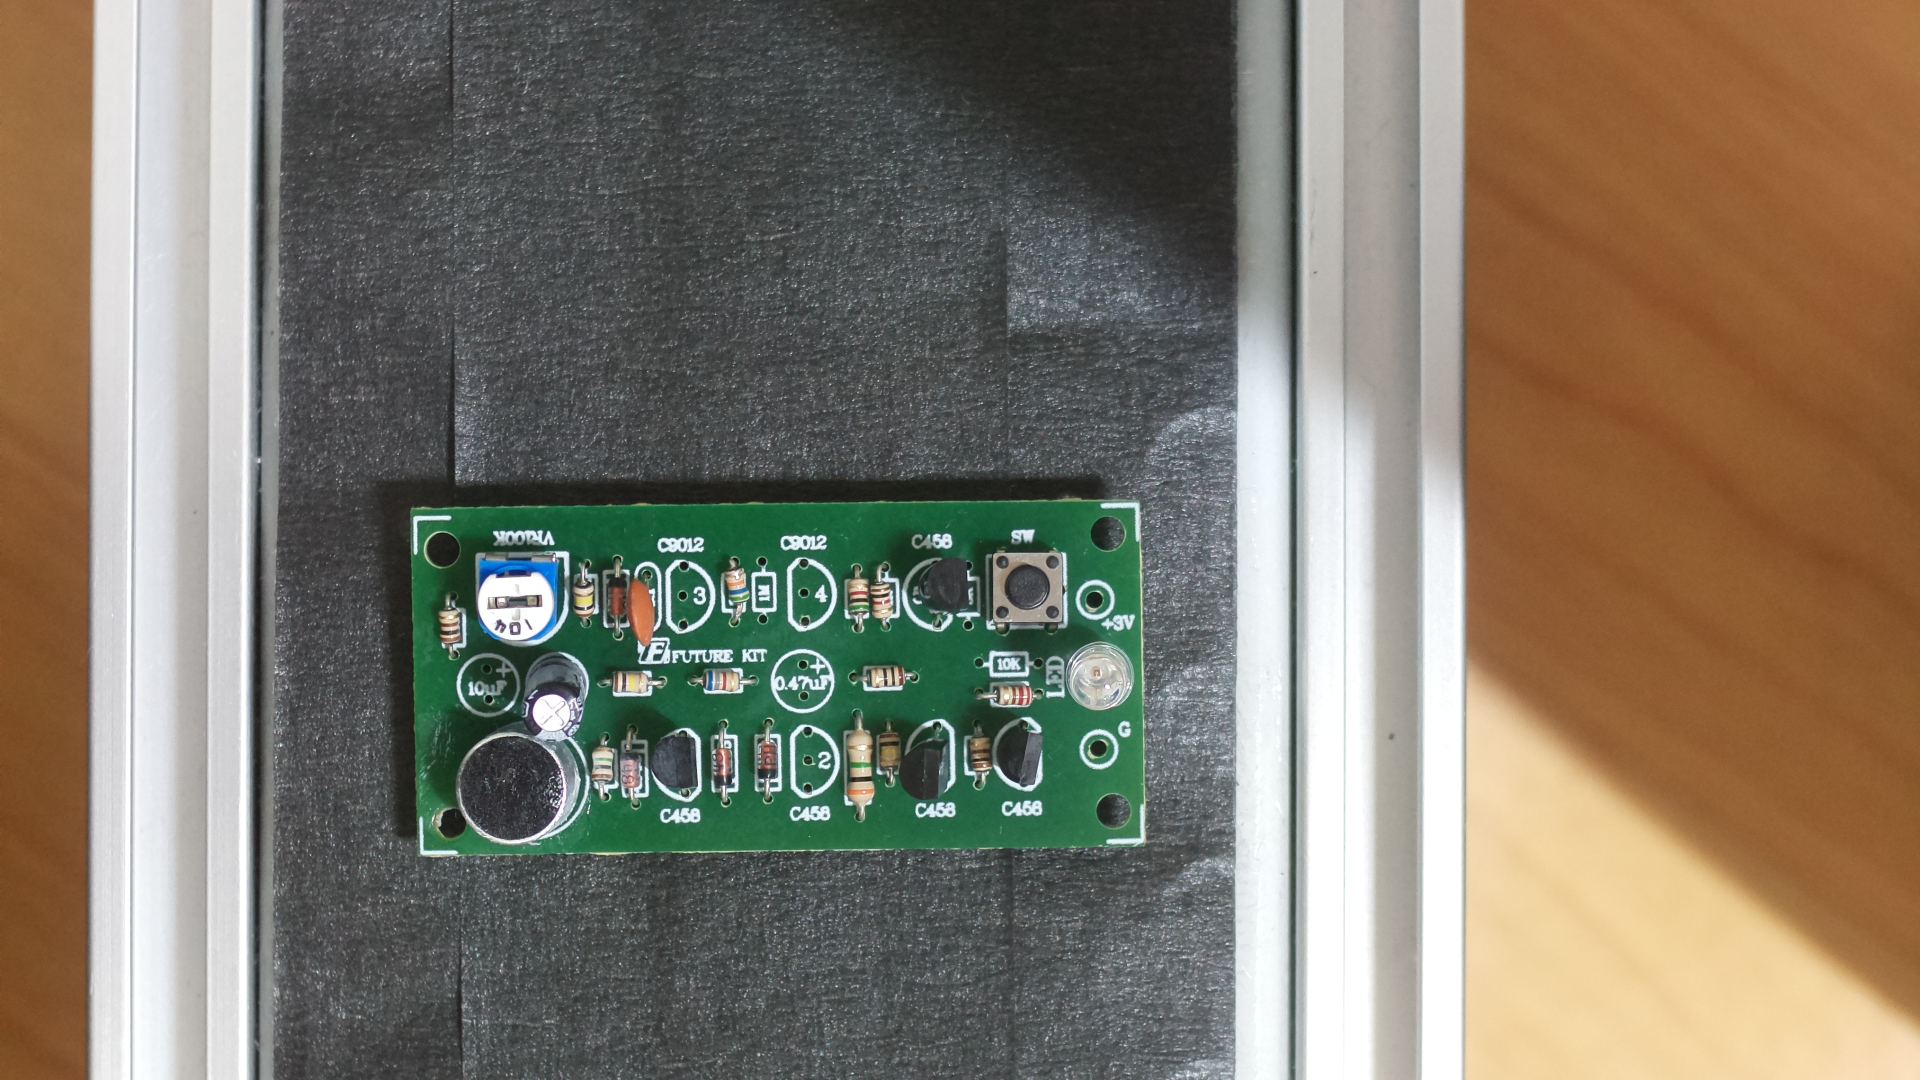A_Missing_part: (402, 495, 1171, 885)
